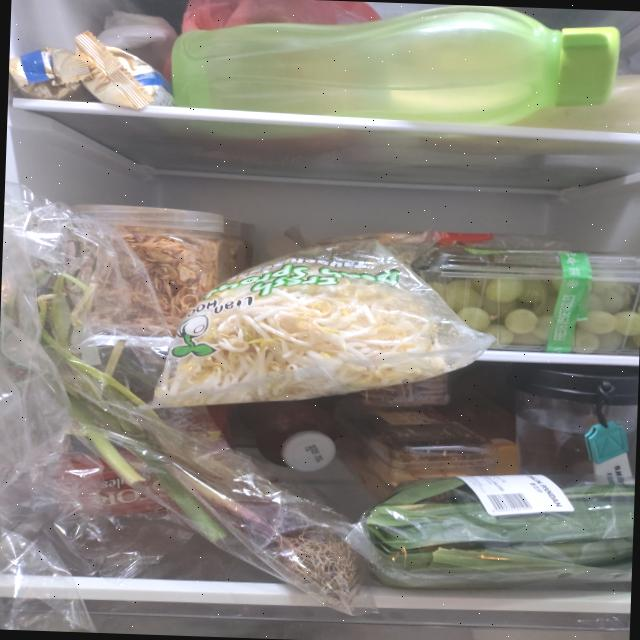bean_sprouts: (152, 251, 452, 417)
grape: (426, 275, 640, 355)
leafy_greens: (356, 472, 634, 596)
spring_onion: (0, 235, 382, 603)
